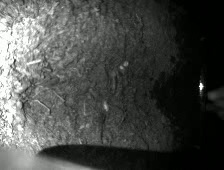corn: (103, 102, 109, 111), (123, 60, 130, 67), (120, 66, 124, 70)
